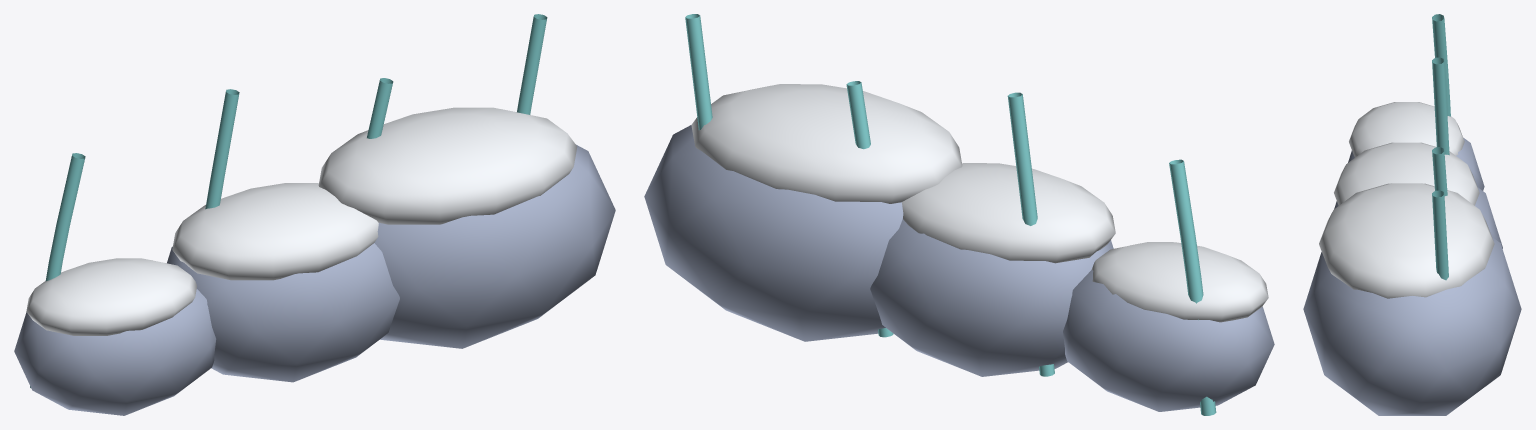
Rendered from winter_shore_0.glb.
The picture shows the model from 3 angles, left to right: view 1: azimuth 30°, elevation 25°; view 2: azimuth 150°, elevation 25°; view 3: azimuth 270°, elevation 25°; orthographic projection. The views are drawn at different scales.
Parts seen in each view (by area): view 1: Stone_2, SnowCap_2.004, Stone_1, Stone_0, SnowCap_1.004, SnowCap_0.004, WinterReed_0, WinterReed_1, WinterReed_3, WinterReed_2; view 2: Stone_2, SnowCap_2.004, Stone_1, Stone_0, SnowCap_1.004, SnowCap_0.004, WinterReed_0, WinterReed_1, WinterReed_3, WinterReed_2; view 3: Stone_2, SnowCap_2.004, SnowCap_1.004, SnowCap_0.004, WinterReed_1, WinterReed_3, WinterReed_0, WinterReed_2, Stone_0, Stone_1.
Part boxes in pixels (x1=…): Stone_2: x1=374, y1=144, x2=615, y2=348; SnowCap_2.004: x1=318, y1=107, x2=577, y2=224; Stone_1: x1=167, y1=243, x2=399, y2=382; Stone_0: x1=14, y1=289, x2=216, y2=415; SnowCap_1.004: x1=172, y1=183, x2=378, y2=280; SnowCap_0.004: x1=26, y1=258, x2=196, y2=335; WinterReed_0: x1=30, y1=153, x2=85, y2=387; WinterReed_1: x1=205, y1=89, x2=239, y2=209; WinterReed_3: x1=517, y1=14, x2=547, y2=114; WinterReed_2: x1=367, y1=78, x2=393, y2=138; Stone_2: x1=644, y1=125, x2=903, y2=341; SnowCap_2.004: x1=691, y1=84, x2=962, y2=203; Stone_1: x1=870, y1=219, x2=1113, y2=376; Stone_0: x1=1063, y1=270, x2=1274, y2=411; SnowCap_1.004: x1=902, y1=163, x2=1115, y2=263; SnowCap_0.004: x1=1091, y1=242, x2=1268, y2=322; WinterReed_0: x1=1169, y1=159, x2=1216, y2=415; WinterReed_1: x1=1007, y1=92, x2=1054, y2=376; WinterReed_3: x1=685, y1=14, x2=712, y2=129; WinterReed_2: x1=846, y1=81, x2=893, y2=337; Stone_2: x1=1303, y1=237, x2=1521, y2=415; SnowCap_2.004: x1=1319, y1=183, x2=1494, y2=298; SnowCap_1.004: x1=1334, y1=142, x2=1479, y2=205; SnowCap_0.004: x1=1349, y1=102, x2=1464, y2=157; WinterReed_1: x1=1432, y1=57, x2=1449, y2=155; WinterReed_3: x1=1432, y1=190, x2=1448, y2=280; WinterReed_0: x1=1432, y1=14, x2=1450, y2=116; WinterReed_2: x1=1432, y1=147, x2=1447, y2=195; Stone_0: x1=1348, y1=138, x2=1484, y2=190; Stone_1: x1=1334, y1=187, x2=1502, y2=248.
Size of the model in its own units: 4.07 by 1.95 by 1.53.
